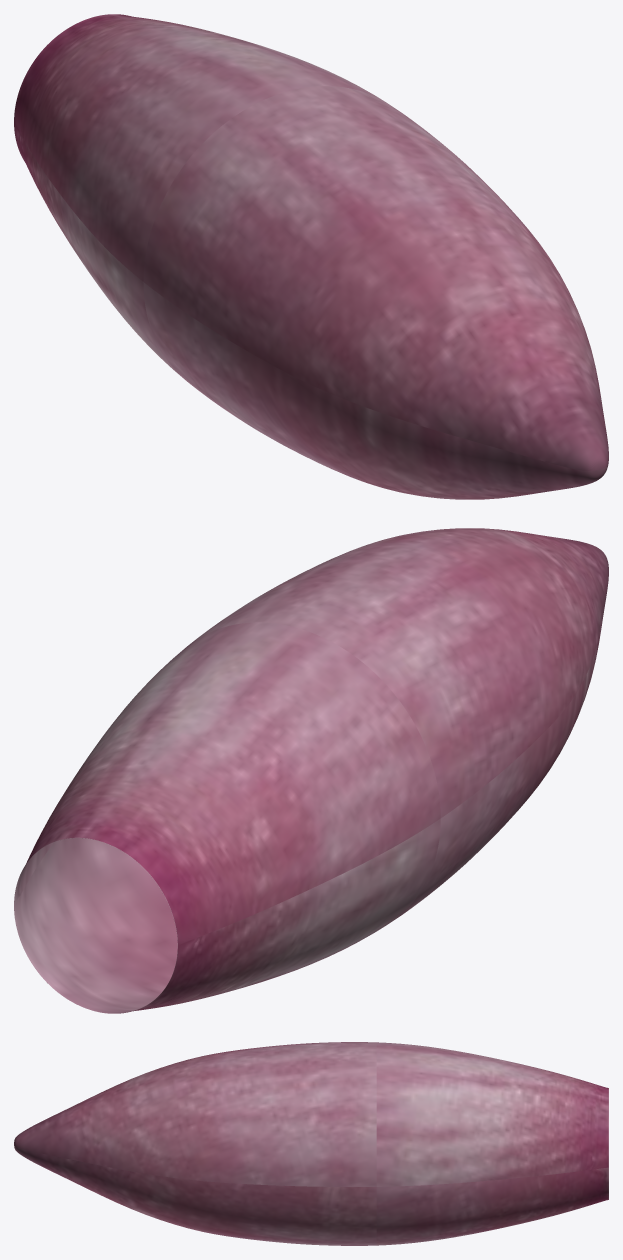
File: RoundRedOnionPeel007.obj
The picture shows the model from 3 angles, top to bottom: view 1: azimuth 30°, elevation 25°; view 2: azimuth 150°, elevation 25°; view 3: azimuth 270°, elevation 25°; orthographic projection. The views are drawn at different scales.
Visible parts, largest first — view 1: RoundRedOnionPeel007; view 2: RoundRedOnionPeel007; view 3: RoundRedOnionPeel007.
Boxes of the visible parts, x1,y1,x2,y2 form: RoundRedOnionPeel007: [14, 14, 608, 499]; RoundRedOnionPeel007: [14, 528, 608, 1013]; RoundRedOnionPeel007: [14, 1042, 608, 1245].
Size of the model in its own units: 0.0292 by 0.0292 by 0.0853.
1 material, 1 textured.
